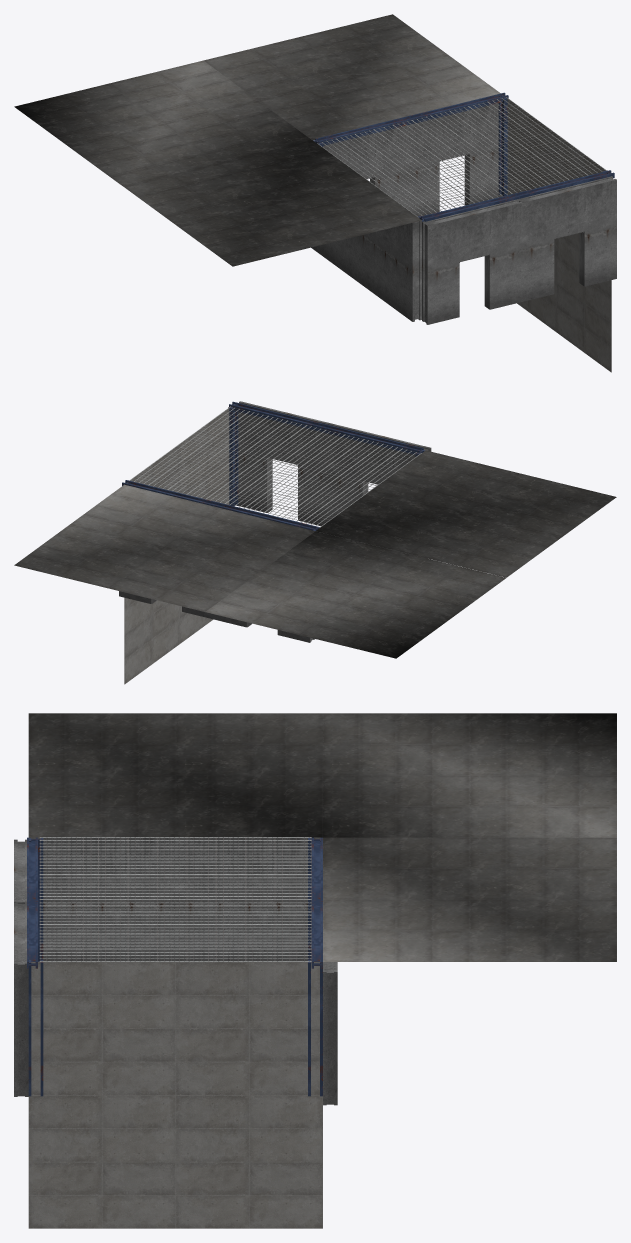
The model's file is BuildingMap_1_1.gltf.
The picture shows the model from 3 angles, top to bottom: view 1: azimuth 30°, elevation 25°; view 2: azimuth 150°, elevation 25°; view 3: azimuth 270°, elevation 25°; orthographic projection. The views are drawn at different scales.
Parts seen in each view (by area): view 1: SM_Floors_Plain_14, SM_Floors_Plain_18, SM_Floors_Plain_22, SM_Floors_Plain_12, SM_Building_Pieces_Wall4m_Door14, SM_Building_Pieces_Wall4m_Door13, SM_Building_Pieces_Wall4m_Door17, SM_BP_WallCon_4x20, SM_Building_Pieces_Wall4m_Door18, SM_BP_WallCon_4x21, SM_Building_Pieces_2_SteelRudder164, SM_Building_Pieces_2_SteelRudder166 (+3 smaller); view 2: SM_Floors_Plain_18, SM_Floors_Plain_14, SM_Floors_Plain_22, SM_Floors_Plain_12, SM_Building_Pieces_Wall4m_Door13, SM_Building_Pieces_Wall4m_Door14, SM_Building_Pieces_2_SteelRudder26, SM_Building_Pieces_2_SteelRudder168, SM_Building_Pieces_2_SteelRudder169, SM_Building_Pieces_2_SteelRudder167, SM_Building_Pieces_2_SteelRudder166, SM_Building_Pieces_Wall4m_Door18 (+1 smaller); view 3: SM_Floors_Plain_12, SM_Floors_Plain_18, SM_Floors_Plain_22, SM_Floors_Plain_14, SM_BP_WallCon_4x21, SM_BP_WallCon_4x20, SM_Building_Pieces_Wall4m_Door13, SM_Building_Pieces_Wall4m_Door17, SM_Building_Pieces_2_SteelRudder26, SM_Building_Pieces_Wall4m_Door14, SM_Building_Pieces_2_SteelRudder164, SM_Building_Pieces_2_SteelRudder167 (+4 smaller).
Part boxes in pixels (x1,y1,x2,y2): SM_Floors_Plain_14: [124, 140, 421, 266]; SM_Floors_Plain_18: [14, 60, 312, 186]; SM_Floors_Plain_22: [203, 14, 500, 140]; SM_Floors_Plain_12: [503, 95, 611, 372]; SM_Building_Pieces_Wall4m_Door14: [422, 199, 522, 324]; SM_Building_Pieces_Wall4m_Door13: [518, 176, 616, 301]; SM_Building_Pieces_Wall4m_Door17: [407, 103, 502, 216]; SM_BP_WallCon_4x20: [358, 220, 421, 321]; SM_Building_Pieces_Wall4m_Door18: [323, 125, 407, 208]; SM_BP_WallCon_4x21: [311, 236, 357, 281]; SM_Building_Pieces_2_SteelRudder164: [498, 95, 508, 196]; SM_Building_Pieces_2_SteelRudder166: [315, 115, 413, 145]; SM_Floors_Plain_18: [205, 531, 505, 658]; SM_Floors_Plain_14: [316, 450, 616, 577]; SM_Floors_Plain_22: [14, 484, 314, 611]; SM_Floors_Plain_12: [124, 408, 229, 684]; SM_Building_Pieces_Wall4m_Door13: [236, 401, 335, 526]; SM_Building_Pieces_Wall4m_Door14: [330, 424, 431, 519]; SM_Building_Pieces_2_SteelRudder26: [228, 404, 238, 505]; SM_Building_Pieces_2_SteelRudder168: [324, 425, 423, 454]; SM_Building_Pieces_2_SteelRudder169: [229, 401, 327, 432]; SM_Building_Pieces_2_SteelRudder167: [122, 480, 221, 507]; SM_Building_Pieces_2_SteelRudder166: [217, 503, 317, 530]; SM_Building_Pieces_Wall4m_Door18: [214, 614, 314, 642]; SM_Floors_Plain_12: [28, 962, 322, 1228]; SM_Floors_Plain_18: [323, 713, 616, 837]; SM_Floors_Plain_22: [323, 837, 616, 961]; SM_Floors_Plain_14: [28, 713, 322, 837]; SM_BP_WallCon_4x21: [175, 837, 320, 961]; SM_BP_WallCon_4x20: [29, 837, 175, 961]; SM_Building_Pieces_Wall4m_Door13: [14, 901, 28, 1096]; SM_Building_Pieces_Wall4m_Door17: [323, 962, 337, 1105]; SM_Building_Pieces_2_SteelRudder26: [28, 959, 43, 1096]; SM_Building_Pieces_Wall4m_Door14: [14, 839, 26, 903]; SM_Building_Pieces_2_SteelRudder164: [308, 959, 322, 1096]; SM_Building_Pieces_2_SteelRudder167: [311, 900, 322, 968].
Bounding box in the file's own units: 16.1 × 8.05 × 16.4.
7 materials, 7 textured.
